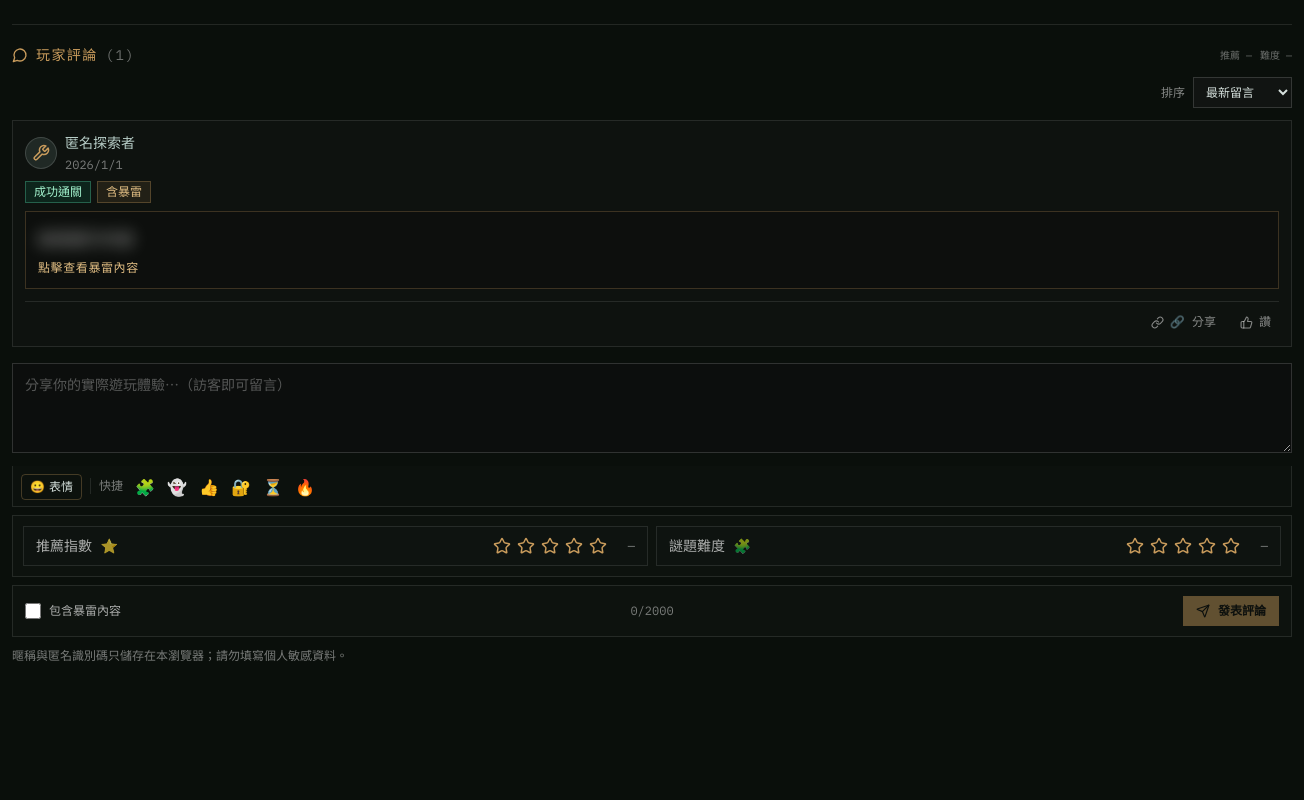
TopicComments › hides spoiler content until the visitor reveals it
Expected: the text "結局提示內容" is shown, left=38, top=226, right=134, bottom=250
Click the button with aria-label "顯示留言 22 的暴雷內容": x=86, y=238 left=25, top=211, right=1279, bottom=289
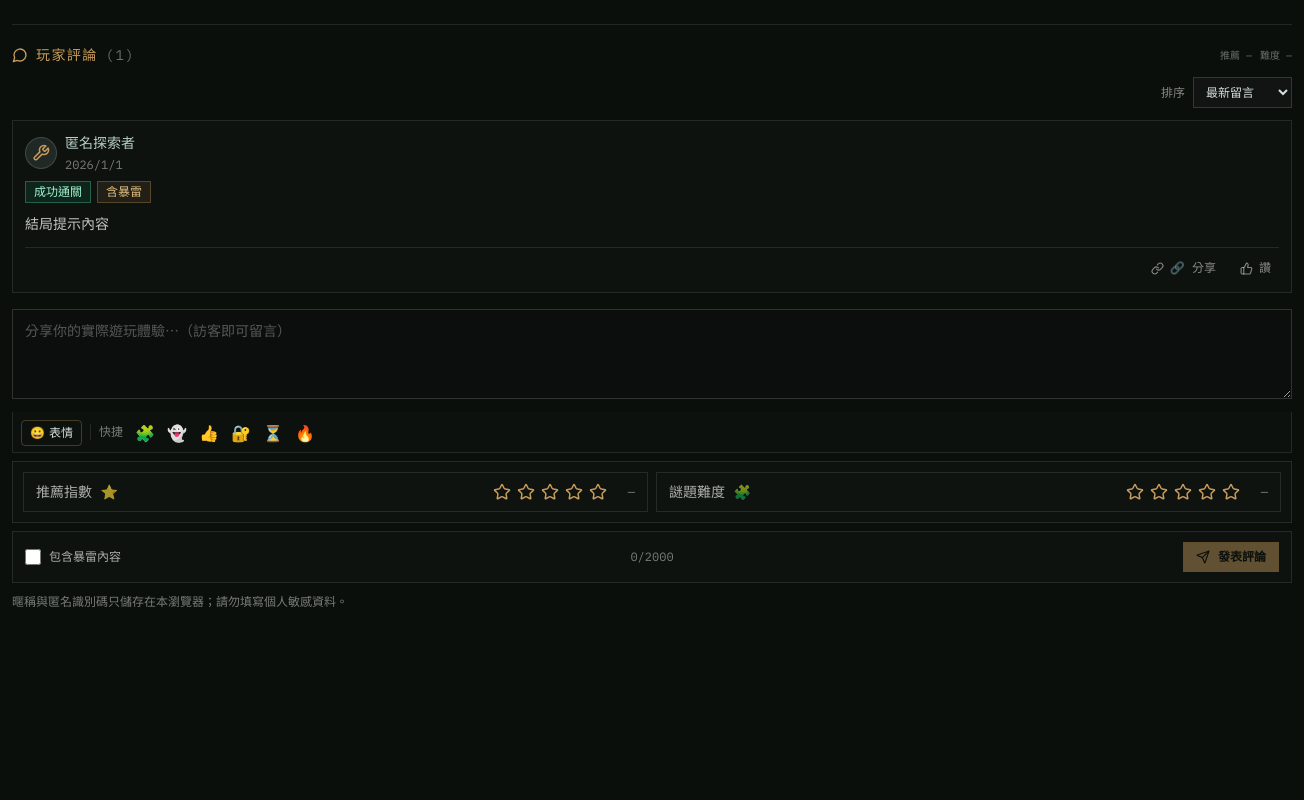
Expected: the text with class "blur-sm" is gone
